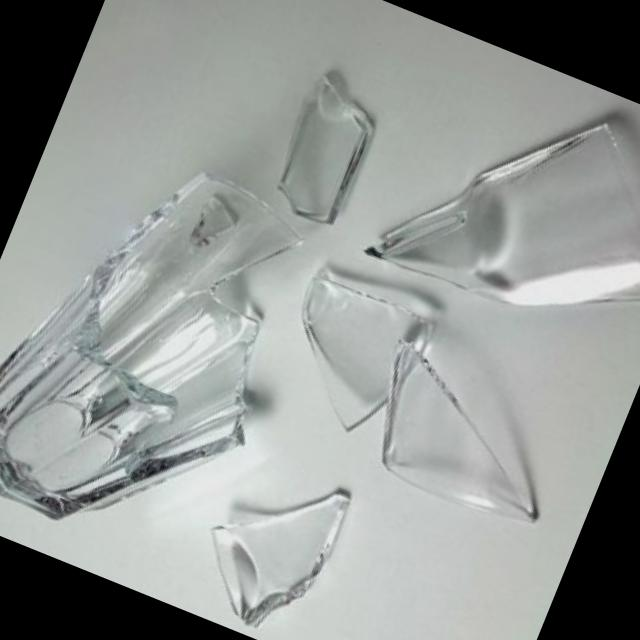PecahanKaca: (0, 0, 640, 640), (0, 117, 334, 574), (358, 47, 640, 368)
